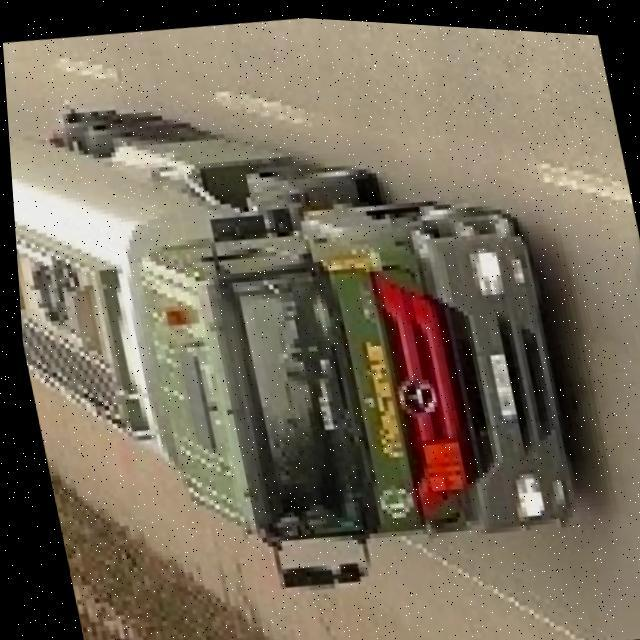truck: (2, 43, 592, 626)
